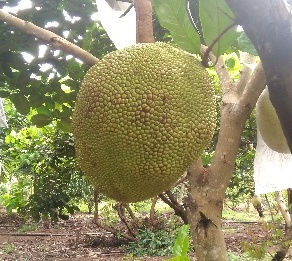Mit: (73, 44, 218, 204)
